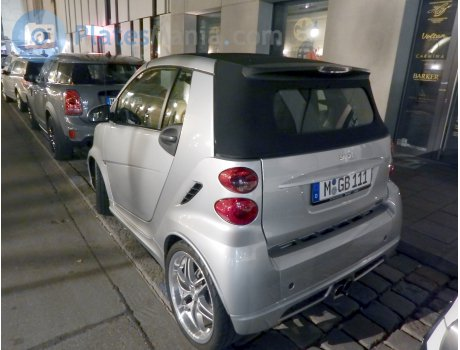License Plates: (315, 178, 373, 190)
